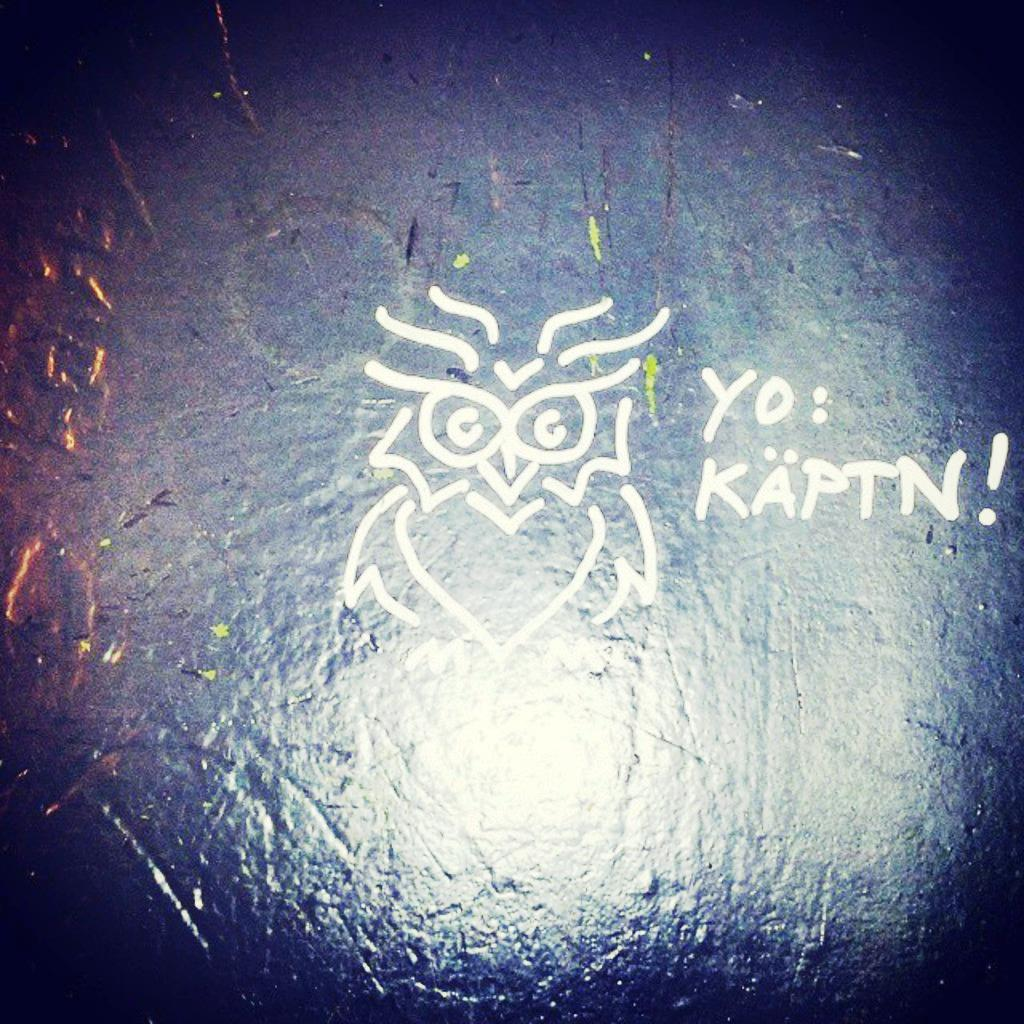Owl: (336, 280, 678, 672)
